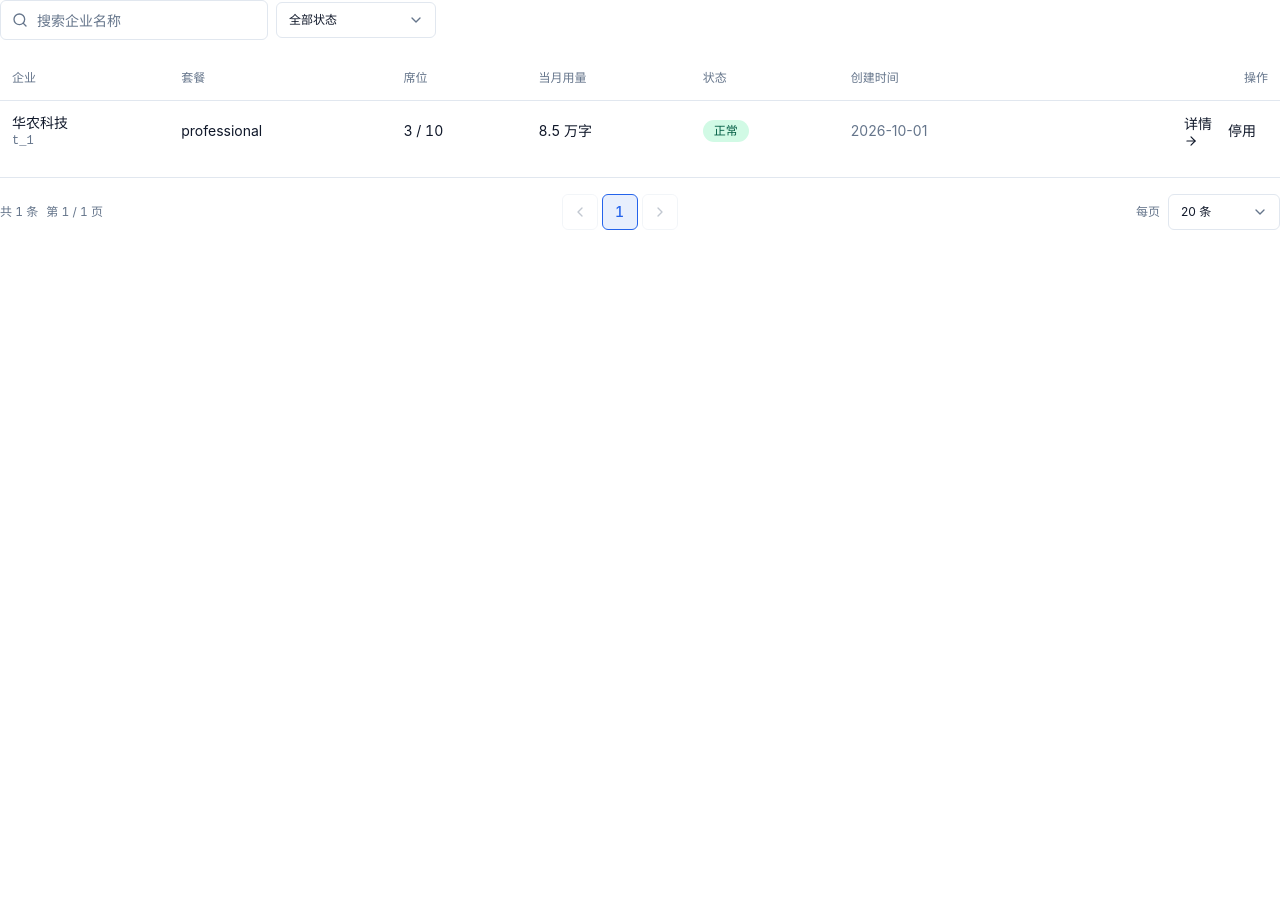
Test case: 运营-企业列表 › 停用企业走二次确认并写明影响
Later steps or results of the test are not shown.
Click the button "停用" at point(1242, 130), box [1216,112,1268,148]
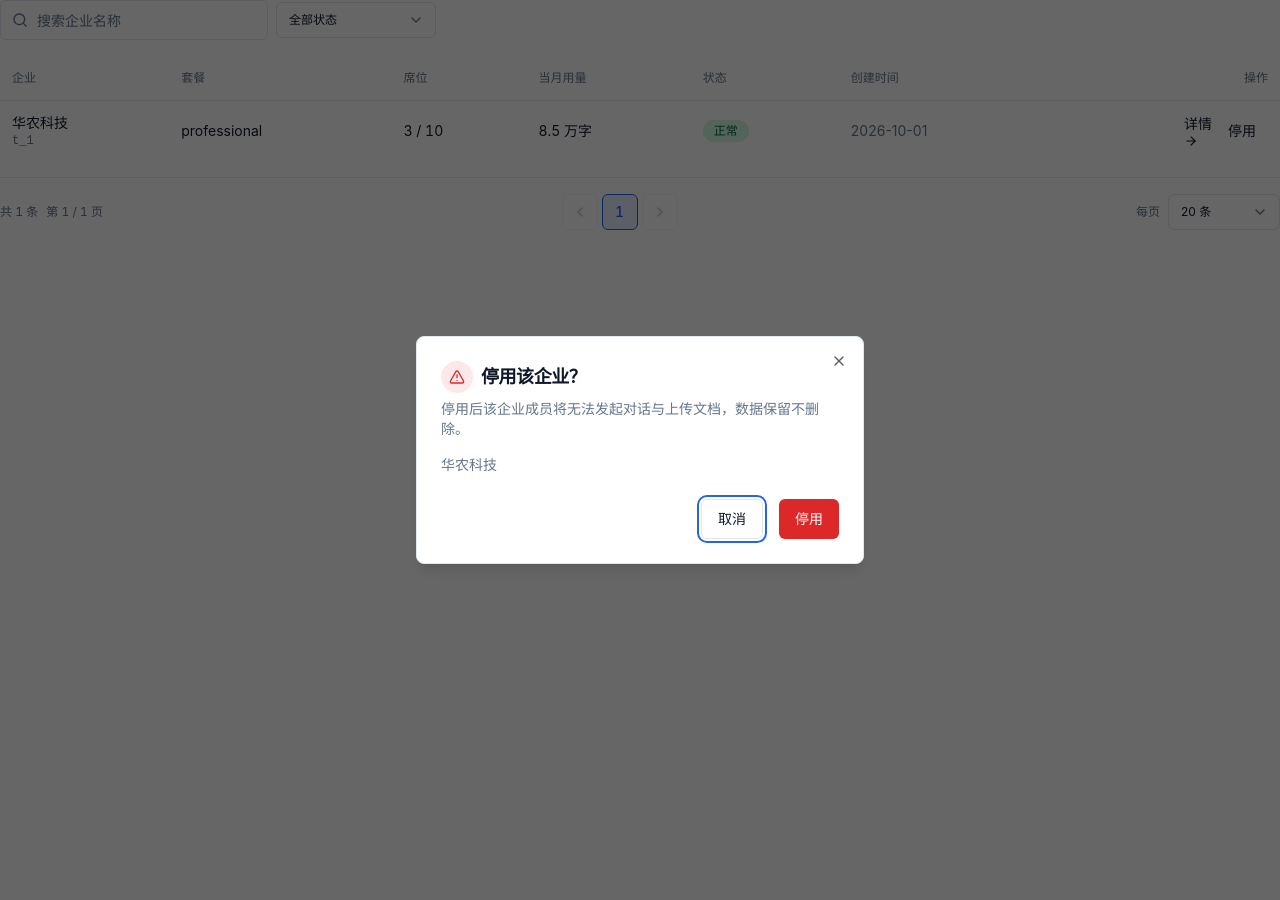
Expected: the text "停用该企业？" is shown, [481,368,586,386]
Expected: the text "数据保留不删除" is shown, [441,400,819,437]
